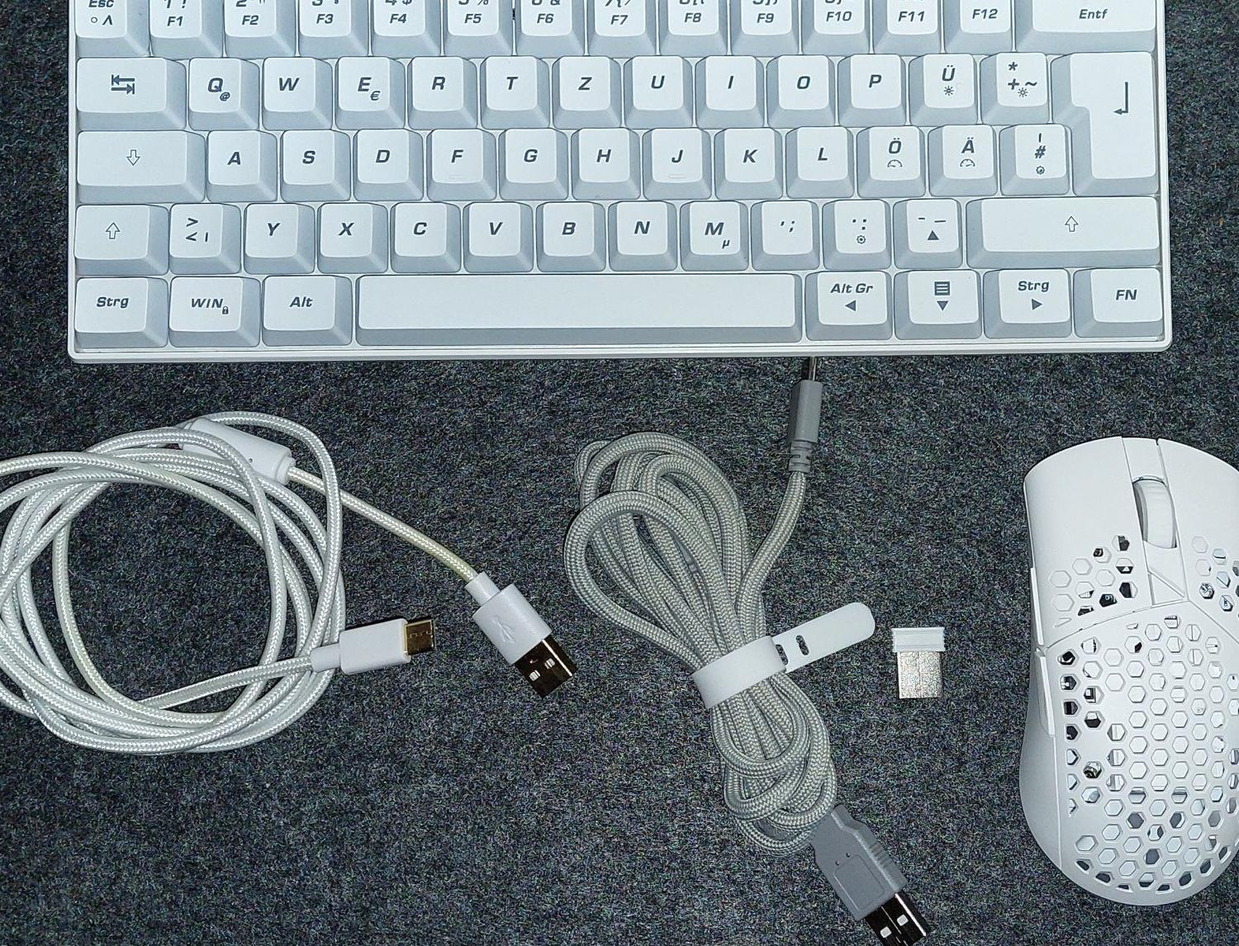0: (809, 1, 866, 38)
1: (145, 1, 202, 39)
2: (220, 1, 279, 40)
3: (295, 1, 354, 40)
4: (369, 1, 429, 38)
5: (442, 1, 502, 39)
6: (515, 1, 575, 39)
7: (589, 1, 647, 38)
8: (662, 1, 720, 40)
9: (735, 1, 793, 39)
a: (204, 125, 263, 185)
accent: (956, 1, 1014, 38)
ae: (938, 120, 995, 180)
alt-left: (259, 271, 337, 330)
altgr-right: (809, 266, 889, 326)
b: (537, 197, 596, 255)
c: (389, 198, 449, 255)
caret: (74, 1, 131, 41)
comma: (756, 196, 813, 253)
d: (353, 125, 411, 183)
del: (1027, 1, 1159, 39)
e: (334, 52, 394, 113)
enter: (1059, 47, 1157, 182)
f: (428, 125, 484, 182)
g: (501, 124, 557, 182)
h: (574, 124, 630, 182)
hash: (1009, 120, 1068, 183)
i: (701, 52, 757, 110)
j: (647, 124, 702, 182)
k: (720, 123, 776, 182)
keyboard: (59, 1, 1180, 364)
l: (792, 121, 847, 180)
less: (165, 199, 222, 257)
m: (681, 196, 743, 256)
minus: (900, 195, 959, 253)
n: (610, 196, 669, 254)
o: (773, 51, 830, 110)
oe: (863, 121, 921, 181)
p: (847, 50, 901, 108)
plus: (991, 48, 1047, 107)
point: (830, 196, 887, 253)
q: (185, 53, 244, 115)
r: (408, 52, 464, 111)
s: (279, 126, 336, 185)
shift-left: (69, 201, 150, 260)
shift-lock: (74, 129, 188, 187)
shift-right: (976, 192, 1158, 253)
space: (351, 268, 800, 331)
ss: (883, 1, 941, 39)
strg-left: (69, 272, 149, 332)
strg-right: (994, 269, 1070, 329)
t: (482, 51, 538, 109)
tab: (73, 53, 168, 113)
u: (629, 51, 685, 110)
ue: (919, 49, 975, 108)
v: (463, 197, 523, 255)
w: (260, 52, 316, 111)
x: (316, 199, 374, 256)
y: (241, 199, 298, 257)
z: (555, 52, 611, 110)
